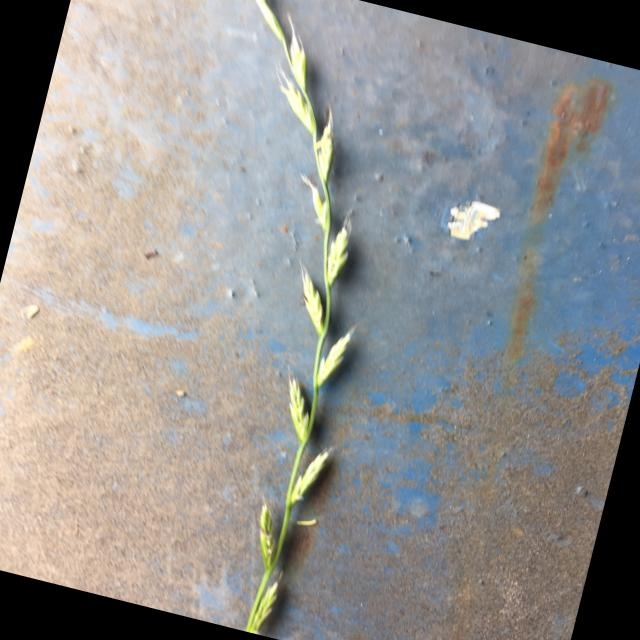Lolium: (81, 0, 446, 640)
